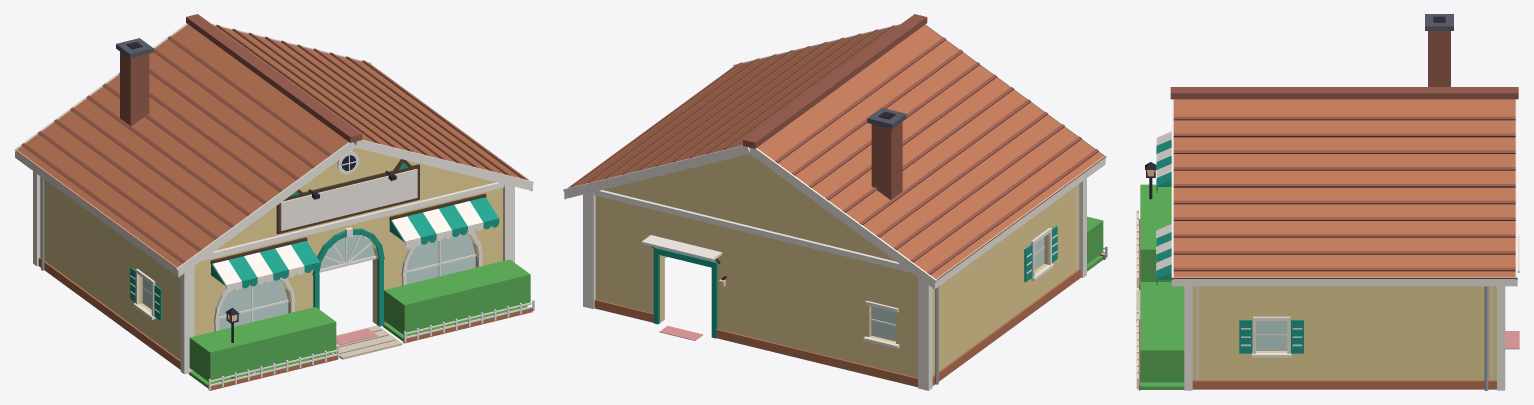
Rendered from CatCafe_Plot_Cafe_Butter.glb.
The picture shows the model from 3 angles, left to right: view 1: azimuth 30°, elevation 25°; view 2: azimuth 150°, elevation 25°; view 3: azimuth 270°, elevation 25°; orthographic projection. The views are drawn at different scales.
Visible parts, largest first — view 1: CatCafe_Plot_Cafe_Butter_Roof, CatCafe_Plot_Cafe_Butter, CatCafe_Plot_Cafe_Butter_Paint, CatCafe_Plot_Cafe_Butter_Fireflies, CatCafe_Plot_Cafe_Butter_Glass, CatCafe_Plot_Cafe_Butter_SignBoard, CatCafe_Plot_Cafe_Butter_Flowers; view 2: CatCafe_Plot_Cafe_Butter_Roof, CatCafe_Plot_Cafe_Butter_Paint, CatCafe_Plot_Cafe_Butter, CatCafe_Plot_Cafe_Butter_Glass, CatCafe_Plot_Cafe_Butter_Fireflies; view 3: CatCafe_Plot_Cafe_Butter_Roof, CatCafe_Plot_Cafe_Butter_Paint, CatCafe_Plot_Cafe_Butter, CatCafe_Plot_Cafe_Butter_Fireflies, CatCafe_Plot_Cafe_Butter_Glass, CatCafe_Plot_Cafe_Butter_Wallpaper, CatCafe_Plot_Cafe_Butter_Flowers.
Boxes of the visible parts, x1,y1,x2,y2 form: CatCafe_Plot_Cafe_Butter_Roof: (14, 14, 533, 277); CatCafe_Plot_Cafe_Butter: (33, 151, 534, 390); CatCafe_Plot_Cafe_Butter_Paint: (40, 148, 502, 359); CatCafe_Plot_Cafe_Butter_Fireflies: (189, 259, 530, 382); CatCafe_Plot_Cafe_Butter_Glass: (142, 233, 475, 330); CatCafe_Plot_Cafe_Butter_SignBoard: (280, 169, 417, 230); CatCafe_Plot_Cafe_Butter_Flowers: (188, 306, 527, 388); CatCafe_Plot_Cafe_Butter_Roof: (563, 14, 1106, 289); CatCafe_Plot_Cafe_Butter_Paint: (595, 154, 1079, 377); CatCafe_Plot_Cafe_Butter: (583, 178, 1107, 390); CatCafe_Plot_Cafe_Butter_Glass: (871, 237, 1044, 341); CatCafe_Plot_Cafe_Butter_Fireflies: (1087, 216, 1103, 263); CatCafe_Plot_Cafe_Butter_Roof: (1170, 14, 1518, 286); CatCafe_Plot_Cafe_Butter_Paint: (1192, 286, 1496, 380); CatCafe_Plot_Cafe_Butter: (1136, 131, 1519, 390); CatCafe_Plot_Cafe_Butter_Fireflies: (1140, 184, 1184, 382); CatCafe_Plot_Cafe_Butter_Glass: (1256, 321, 1287, 350); CatCafe_Plot_Cafe_Butter_Wallpaper: (1196, 286, 1492, 380); CatCafe_Plot_Cafe_Butter_Flowers: (1140, 282, 1184, 389).
Bounding box in the file's own units: 41.86 × 25.3 × 36.8.
1 material, 1 textured.
